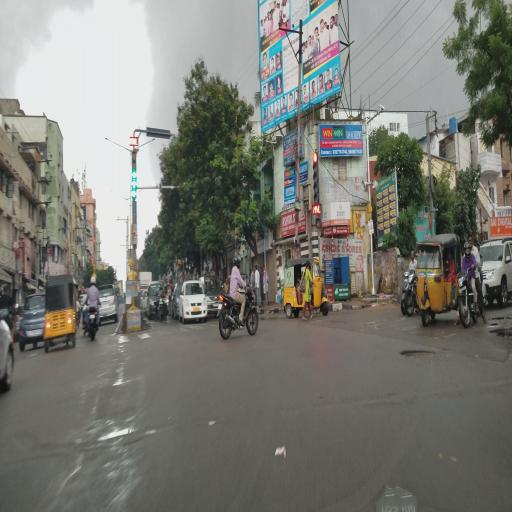street_light_0: (124, 132, 158, 163), (101, 126, 135, 156)
